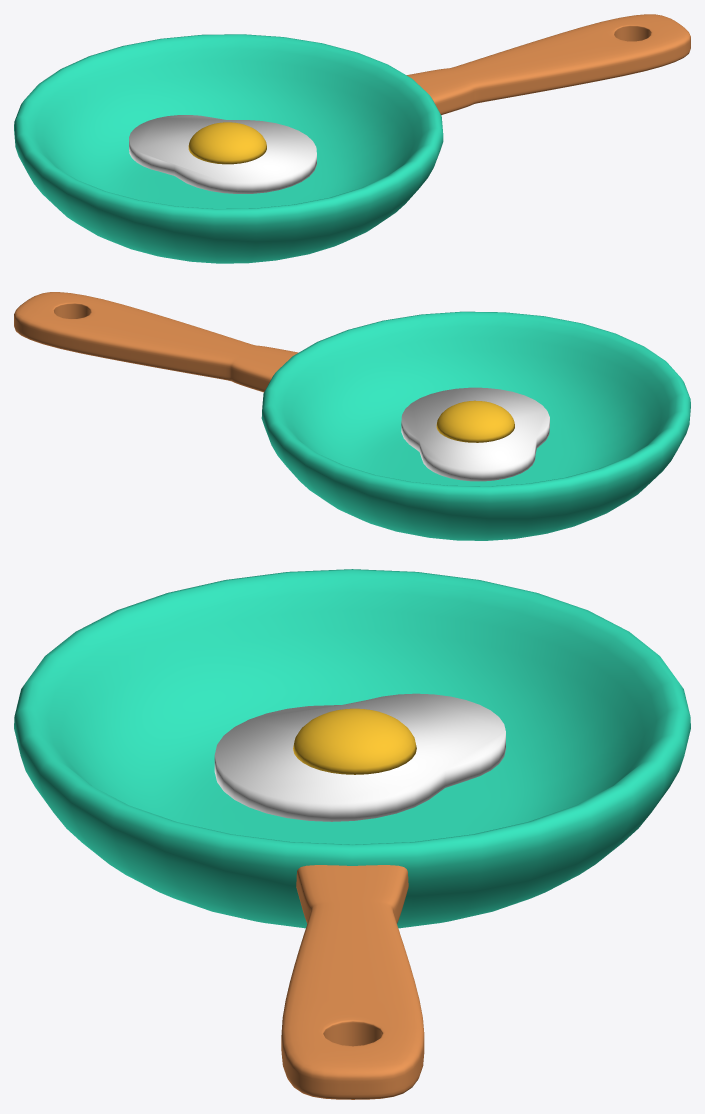
The model's file is jajo.gltf.
The picture shows the model from 3 angles, top to bottom: view 1: azimuth 30°, elevation 25°; view 2: azimuth 150°, elevation 25°; view 3: azimuth 270°, elevation 25°; orthographic projection. The views are drawn at different scales.
Visible parts, largest first — view 1: Circle.005, Plane.002, Circle.006, Sphere.003; view 2: Circle.005, Plane.002, Circle.006, Sphere.003; view 3: Circle.005, Plane.002, Circle.006, Sphere.003.
Boxes of the visible parts, x1,y1,x2,y2 form: Circle.005: (14, 34, 443, 263); Plane.002: (406, 14, 690, 114); Circle.006: (129, 115, 316, 193); Sphere.003: (188, 122, 266, 164); Circle.005: (261, 311, 690, 540); Plane.002: (14, 292, 298, 392); Circle.006: (401, 387, 549, 481); Sphere.003: (436, 400, 514, 442); Circle.005: (14, 569, 690, 928); Plane.002: (281, 865, 424, 1099); Circle.006: (214, 693, 505, 821); Sphere.003: (293, 708, 416, 774).
Bounding box in the file's own units: 7.82 × 1.04 × 4.56.
Materials: 2 (2 with a texture image).
